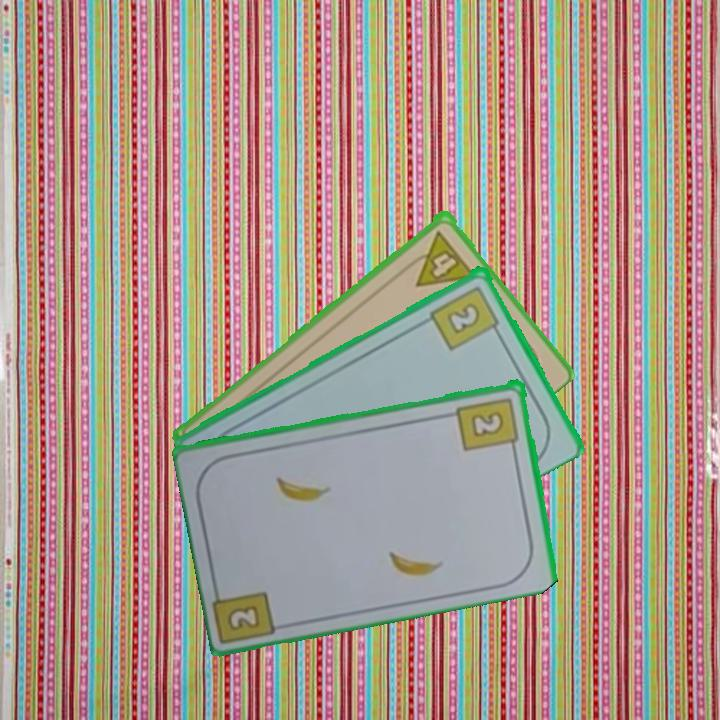2b: (427, 282, 504, 353), (454, 393, 522, 455), (223, 601, 264, 634)
4p: (400, 226, 478, 290)
